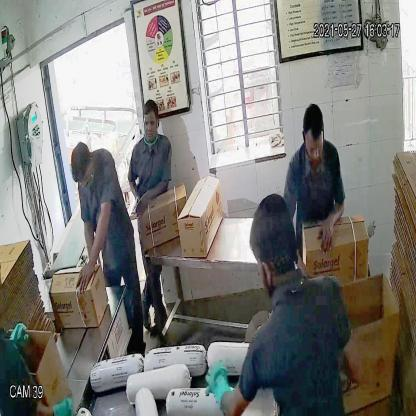no_goggles: (140, 113, 160, 134)
